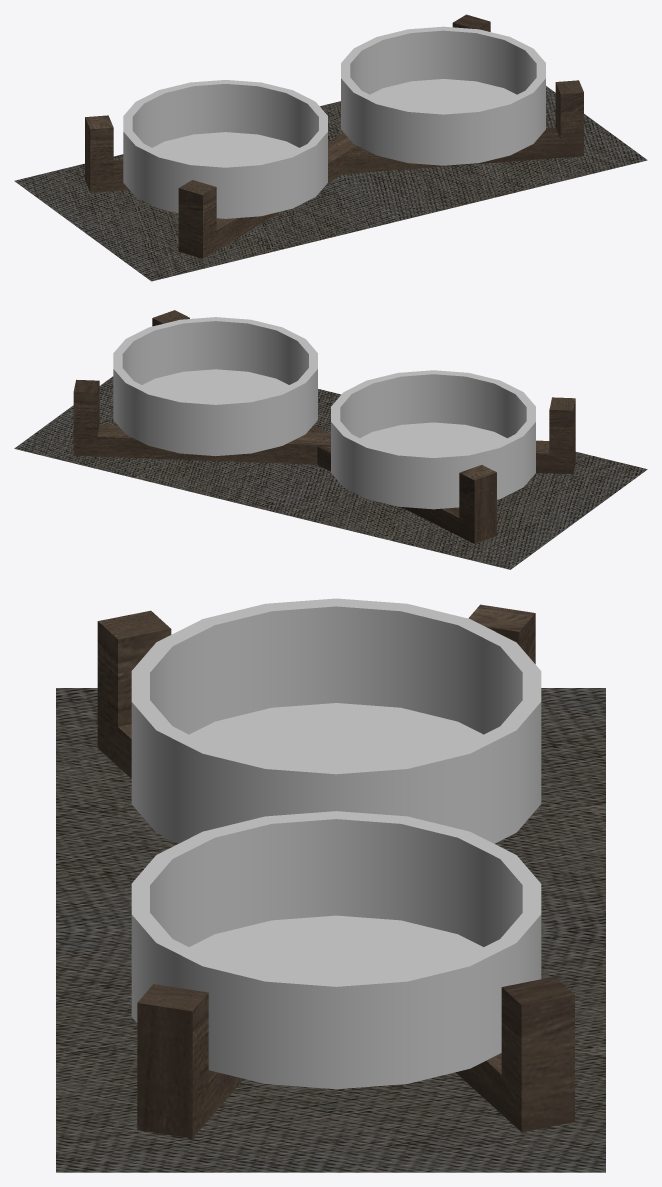
Rendered from M_Dogpen02.FBX.
3 renders of one model, top to bottom at view 1: azimuth 30°, elevation 25°; view 2: azimuth 150°, elevation 25°; view 3: azimuth 270°, elevation 25°, orthographic. The views are drawn at different scales.
Parts seen in each view (by area): view 1: M_Dogpen02_03, M_Dogpen02_01, M_Dogpen02_02; view 2: M_Dogpen02_03, M_Dogpen02_01, M_Dogpen02_02; view 3: M_Dogpen02_03, M_Dogpen02_01, M_Dogpen02_02.
Part boxes in pixels (x1,y1,x2,y2): M_Dogpen02_03: (123,26,545,218); M_Dogpen02_01: (14,86,647,281); M_Dogpen02_02: (85,14,583,258); M_Dogpen02_03: (113,317,535,509); M_Dogpen02_01: (14,376,647,569); M_Dogpen02_02: (73,310,575,543); M_Dogpen02_03: (131,598,541,1089); M_Dogpen02_01: (56,688,605,1172); M_Dogpen02_02: (97,604,574,1138).
Bounding box in the file's own units: 1.5 × 0.2058 × 0.7196.
